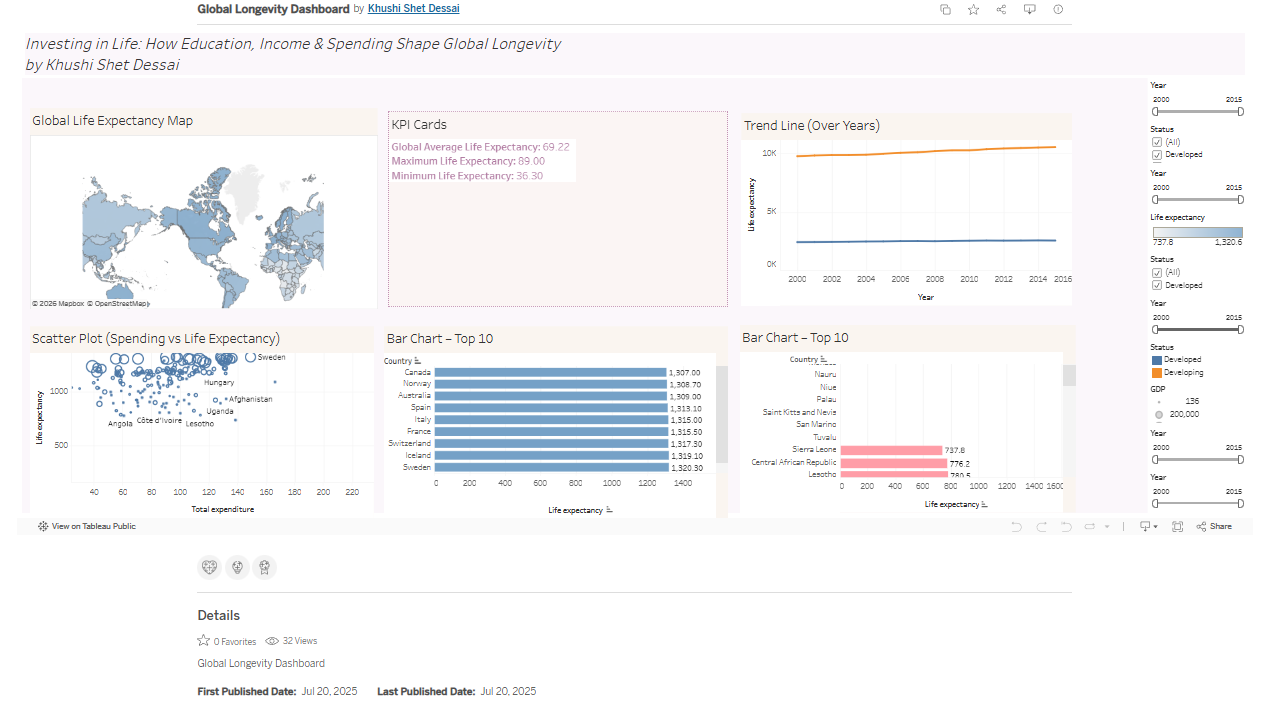

The page's visual inventory and layout, read from the dashboard file:
{"tool":"tableau","page":{"name":"Investing in Life: How Education, Income & Spending Shape Global Longevity","canvas":[1000,1000],"units":"permille","ordinal":0},"visuals":[{"type":"title","box":[6.1,14.8,987.8,141]},{"type":"filter","title":"KPI Cards","param":"[federated.03k6liz0mpg32c1ejrg2k1up6f0m].[none:Year:qk]","box":[872.1,155.8,121.9,82.9]},{"type":"worksheet","title":"Global Life Expectancy Map","mark":"Automatic","box":[9.9,168.8,281.8,406.3]},{"type":"worksheet","title":"KPI Cards","mark":"Automatic","box":[300.1,174.4,275.7,397]},{"type":"worksheet","title":"Trend Line (Over Years)","mark":"Automatic","rows":["Life expectancy "],"cols":["Year"],"box":[586.4,178.1,267.3,391.5]},{"type":"filter","title":"KPI Cards","param":"[federated.03k6liz0mpg32c1ejrg2k1up6f0m].[none:Status:nk]","box":[872.1,238.8,121.9,82.9]},{"type":"filter","title":"Global Life Expectancy Map","param":"[federated.03k6liz0mpg32c1ejrg2k1up6f0m].[none:Year:qk]","box":[872.1,321.7,121.9,82.9]},{"type":"legend","title":"Global Life Expectancy Map","param":"[federated.03k6liz0mpg32c1ejrg2k1up6f0m].[sum:Life expectancy :qk]","box":[872.1,404.6,121.9,82.9]},{"type":"filter","title":"Trend Line (Over Years)","param":"[federated.03k6liz0mpg32c1ejrg2k1up6f0m].[none:Status:nk]","box":[872.1,487.6,121.9,82.9]},{"type":"filter","title":"Trend Line (Over Years)","param":"[federated.03k6liz0mpg32c1ejrg2k1up6f0m].[none:Year:qk]","box":[872.1,570.5,121.9,82.9]},{"type":"worksheet","title":"Bar Chart – Top 10 ","mark":"Automatic","rows":["Country"],"cols":["Life expectancy "],"box":[584.9,608.5,271.9,380.3]},{"type":"worksheet","title":"Scatter Plot (Spending vs Life Expectancy)","mark":"Automatic","rows":["Life expectancy "],"cols":["Total expenditure"],"box":[9.9,610.4,278.8,389.6]},{"type":"worksheet","title":"Bar Chart – Top 10","mark":"Automatic","rows":["Country"],"cols":["Life expectancy "],"box":[297,610.4,278.8,391.5]},{"type":"legend","title":"Trend Line (Over Years)","param":"[federated.03k6liz0mpg32c1ejrg2k1up6f0m].[none:Status:nk]","box":[872.1,653.4,121.9,82.9]},{"type":"legend","title":"Scatter Plot (Spending vs Life Expectancy)","param":"[federated.03k6liz0mpg32c1ejrg2k1up6f0m].[sum:GDP:qk]","box":[872.1,736.4,121.9,82.9]},{"type":"filter","title":"Bar Chart – Top 10","param":"[federated.03k6liz0mpg32c1ejrg2k1up6f0m].[none:Year:qk]","box":[872.1,819.3,121.9,82.9]},{"type":"filter","title":"Bar Chart – Top 10 ","param":"[federated.03k6liz0mpg32c1ejrg2k1up6f0m].[none:Year:qk]","box":[872.1,902.2,121.9,83]}]}

Visuals, with their boxes on the dashboard's canvas, which has no fixed pixel size, in thousandths of its width and height (x1, y1, x2, y2). These are canvas units, not pixel positions in the 1280x707 screenshot, which may show the page scaled, cropped or inside an application window:
title: l=6, t=15, r=994, b=156
"KPI Cards" filter: l=872, t=156, r=994, b=239
"Global Life Expectancy Map" worksheet: l=10, t=169, r=292, b=575
"KPI Cards" worksheet: l=300, t=174, r=576, b=571
"Trend Line (Over Years)" worksheet: l=586, t=178, r=854, b=570
"KPI Cards" filter: l=872, t=239, r=994, b=322
"Global Life Expectancy Map" filter: l=872, t=322, r=994, b=405
"Global Life Expectancy Map" legend: l=872, t=405, r=994, b=488
"Trend Line (Over Years)" filter: l=872, t=488, r=994, b=570
"Trend Line (Over Years)" filter: l=872, t=570, r=994, b=653
"Bar Chart – Top 10 " worksheet: l=585, t=608, r=857, b=989
"Scatter Plot (Spending vs Life Expectancy)" worksheet: l=10, t=610, r=289, b=1000
"Bar Chart – Top 10" worksheet: l=297, t=610, r=576, b=1002
"Trend Line (Over Years)" legend: l=872, t=653, r=994, b=736
"Scatter Plot (Spending vs Life Expectancy)" legend: l=872, t=736, r=994, b=819
"Bar Chart – Top 10" filter: l=872, t=819, r=994, b=902
"Bar Chart – Top 10 " filter: l=872, t=902, r=994, b=985
